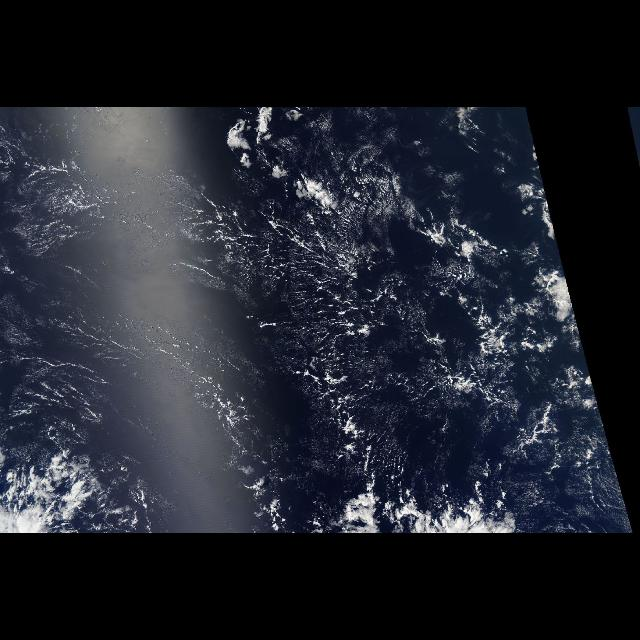Fish: (15, 280, 295, 532)
Gravel: (204, 184, 600, 493)
Sugar: (233, 205, 414, 490)
